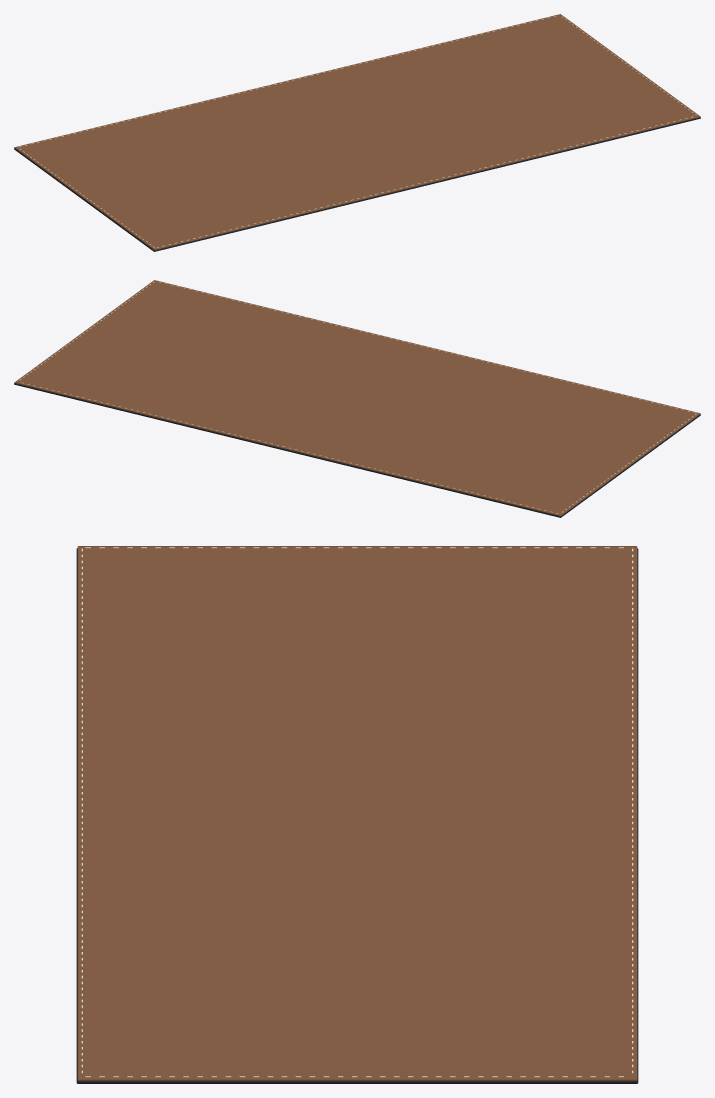
File: desk-mat-leather.glb
3 views of the same model, one above another, from view 1: azimuth 30°, elevation 25°; view 2: azimuth 150°, elevation 25°; view 3: azimuth 270°, elevation 25° (orthographic). The views are drawn at different scales.
Parts seen in each view (by area): view 1: catalog_surface_RealismUV; view 2: catalog_surface_RealismUV; view 3: catalog_surface_RealismUV.
Part boxes in pixels (left/top/right/bottom): catalog_surface_RealismUV: left=14, top=14, right=700, bottom=251; catalog_surface_RealismUV: left=14, top=280, right=700, bottom=517; catalog_surface_RealismUV: left=76, top=546, right=638, bottom=1083.
Size of the model in its own units: 0.9 by 0.004 by 0.4.
